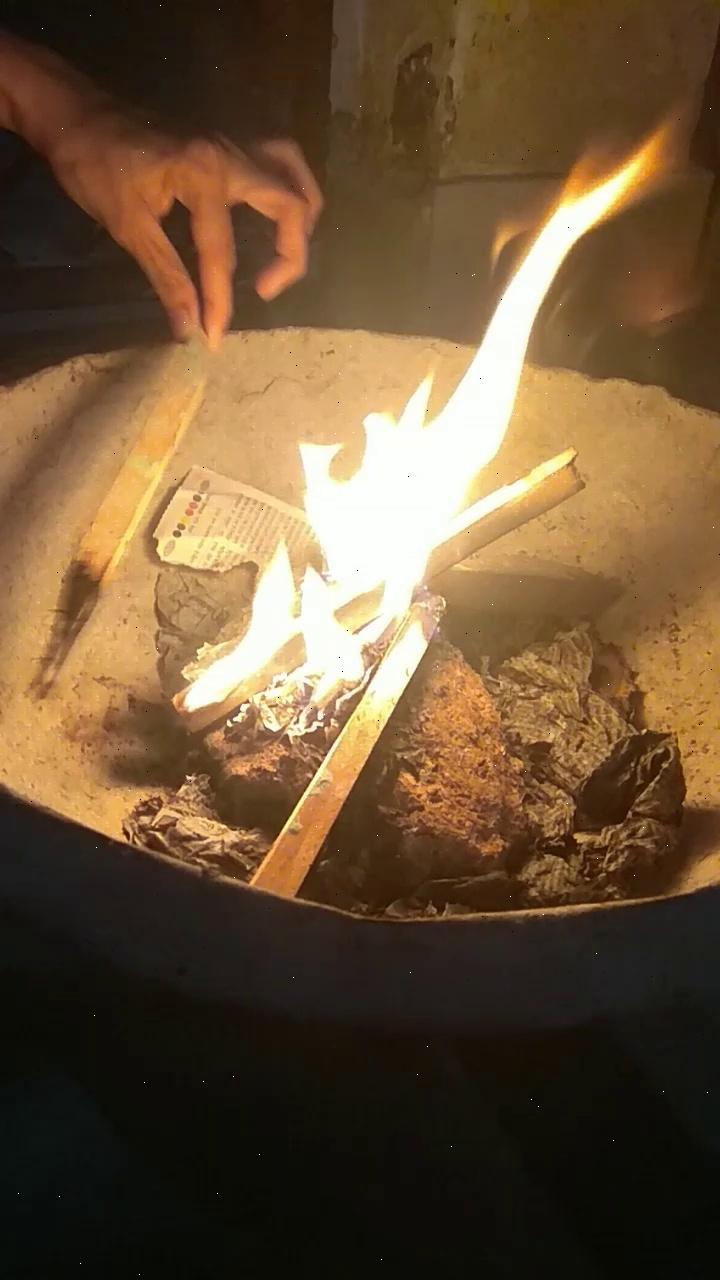fire: (232, 53, 669, 725)
